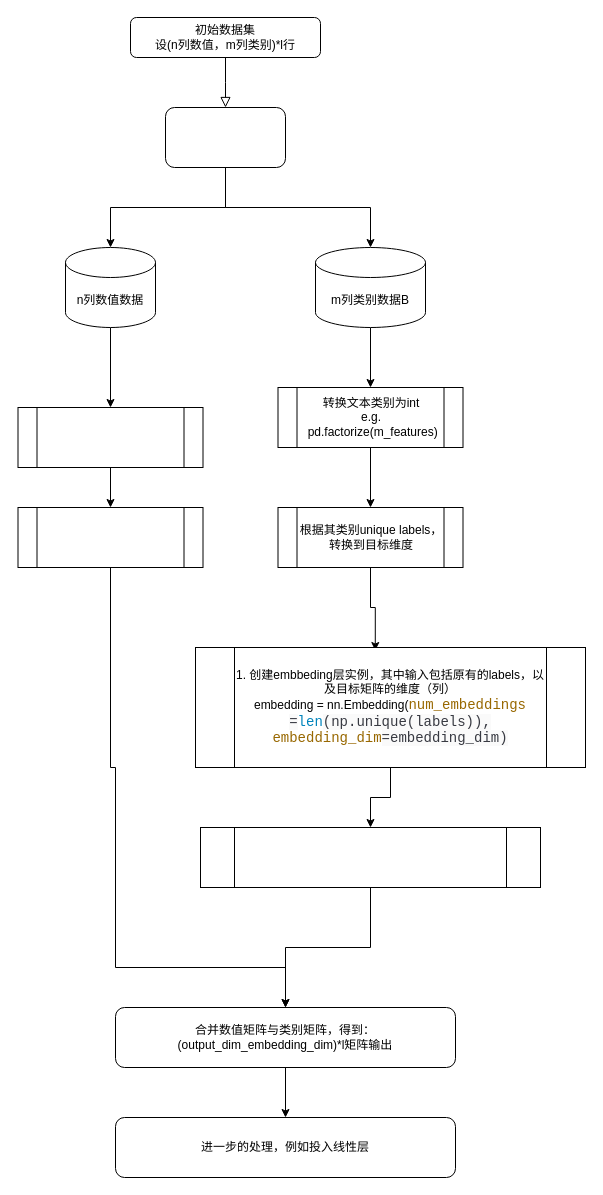
This 603x1195 diagram has some shape labels left out. Each missing label, with the centre of its shape:
"2. 输入B类别子数据到embedding层实例中，得到embedding_dim*l行的矩阵" belongs at (370,857).
"分割数值型数据，类别数据" belongs at (225,137).
"带入linear层实例处理" belongs at (110,437).
"输出output_dim*l维度矩阵" belongs at (110,537).
